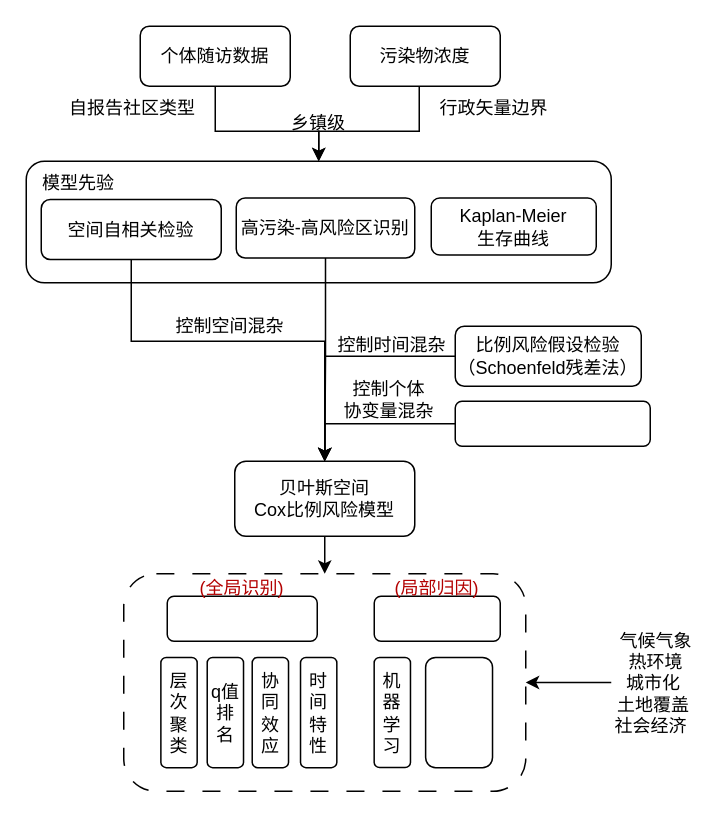
This 728x818 diagram has some shape labels left out. The centre of each missing label's shape, as x and y in pixels:
"GeoSHAP" goes at (436,618).
"SHAP计算" goes at (458,712).
"VIF共线检验" goes at (552,423).
"地理探测器" goes at (241,618).
